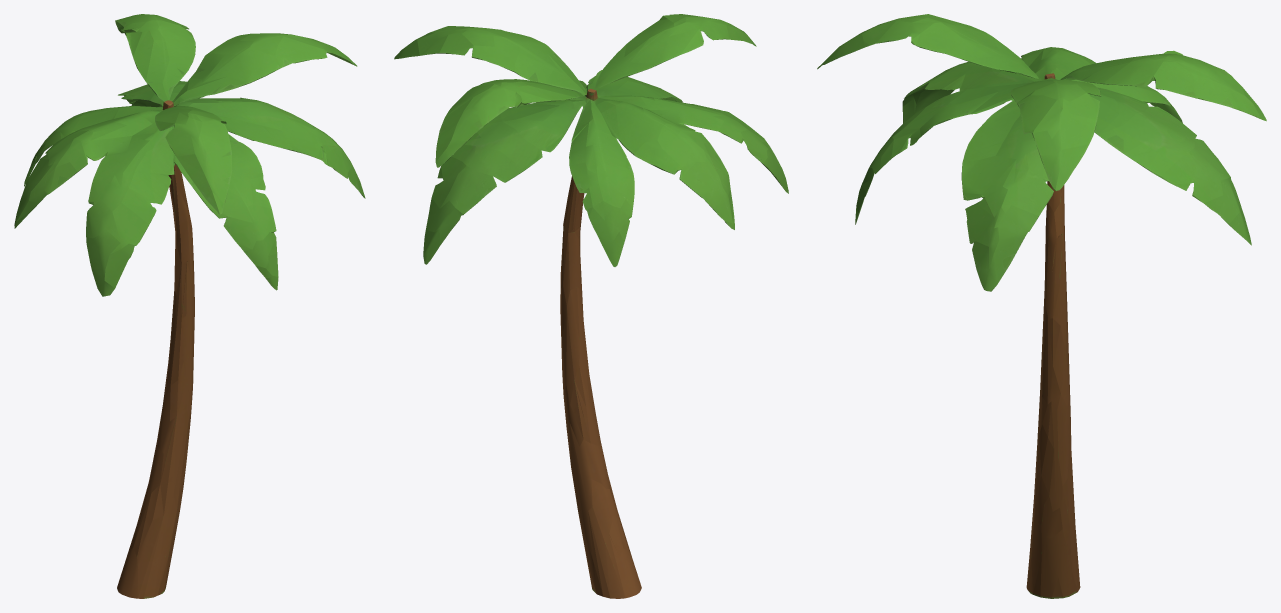
The model's file is palm_tree.glb.
3 views of the same model, side by side, from view 1: azimuth 30°, elevation 25°; view 2: azimuth 150°, elevation 25°; view 3: azimuth 270°, elevation 25° (orthographic). The views are drawn at different scales.
Parts seen in each view (by area): view 1: output_unwrapped; view 2: output_unwrapped; view 3: output_unwrapped.
Boxes of the visible parts, bbox=[...] form: output_unwrapped: bbox=[14, 14, 365, 598]; output_unwrapped: bbox=[394, 14, 788, 598]; output_unwrapped: bbox=[817, 14, 1266, 598].
Bounding box in the file's own units: 1.3 × 1.9 × 1.36.
1 material, 1 textured.
